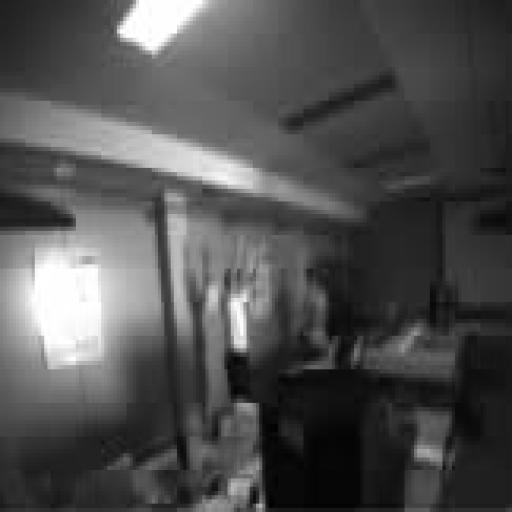human: (225, 269, 249, 402), (301, 269, 331, 356)
